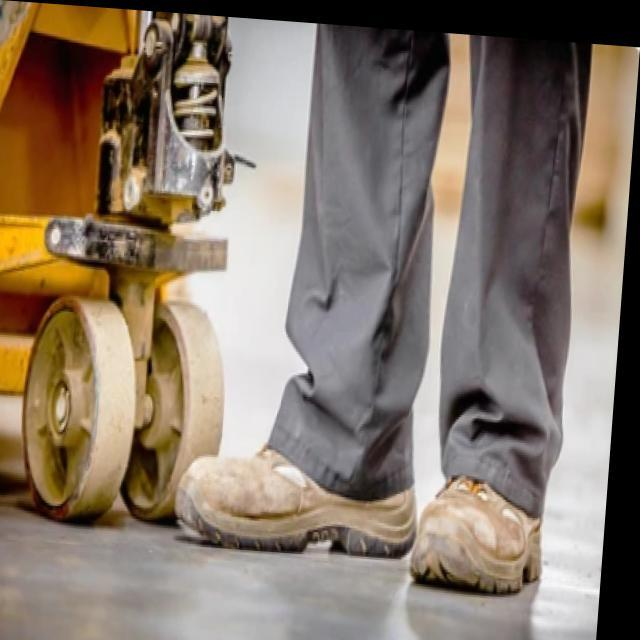boots: (168, 366, 561, 607)
